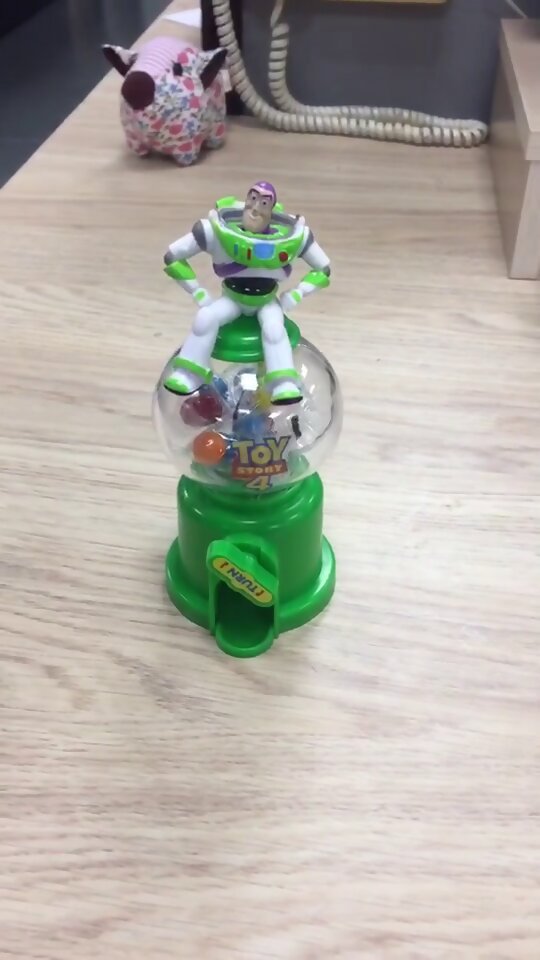buzz: (148, 175, 344, 660)
